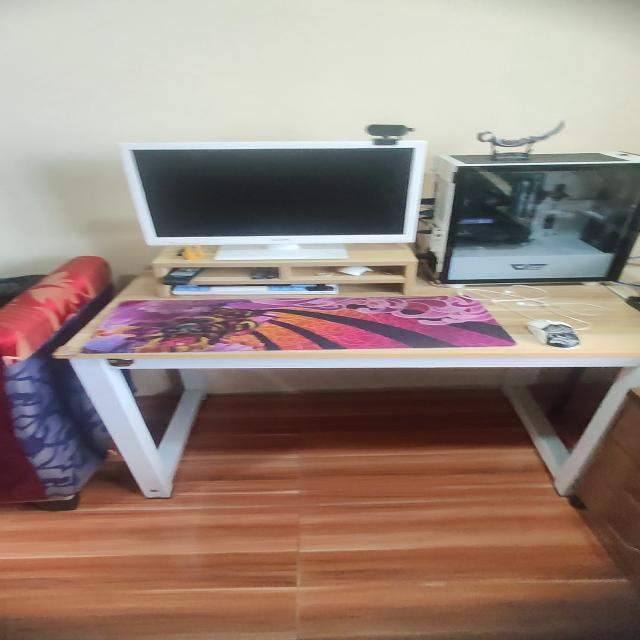table: (56, 271, 640, 502)
